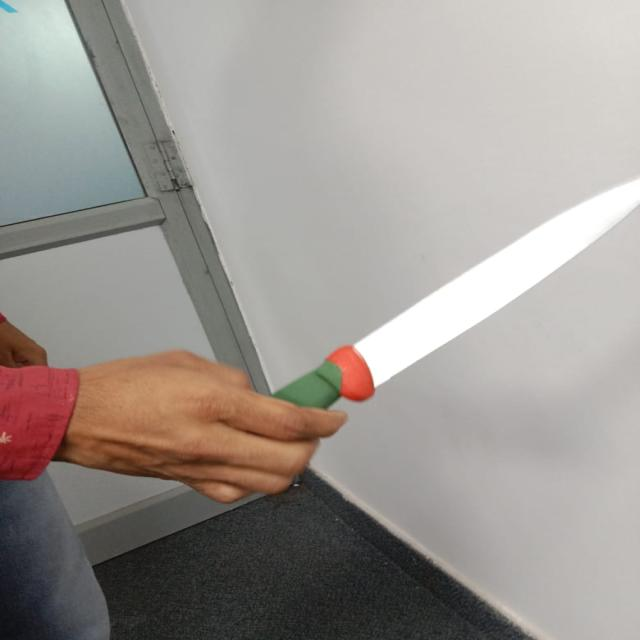Knife: (275, 179, 639, 409)
Knife_Handle: (53, 119, 640, 509)
